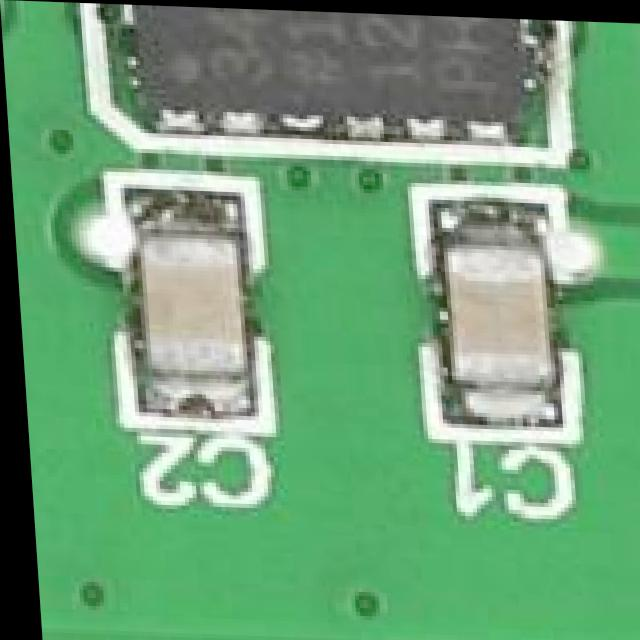IC: (92, 3, 530, 139)
capacitor: (424, 202, 560, 396), (123, 211, 244, 383)
